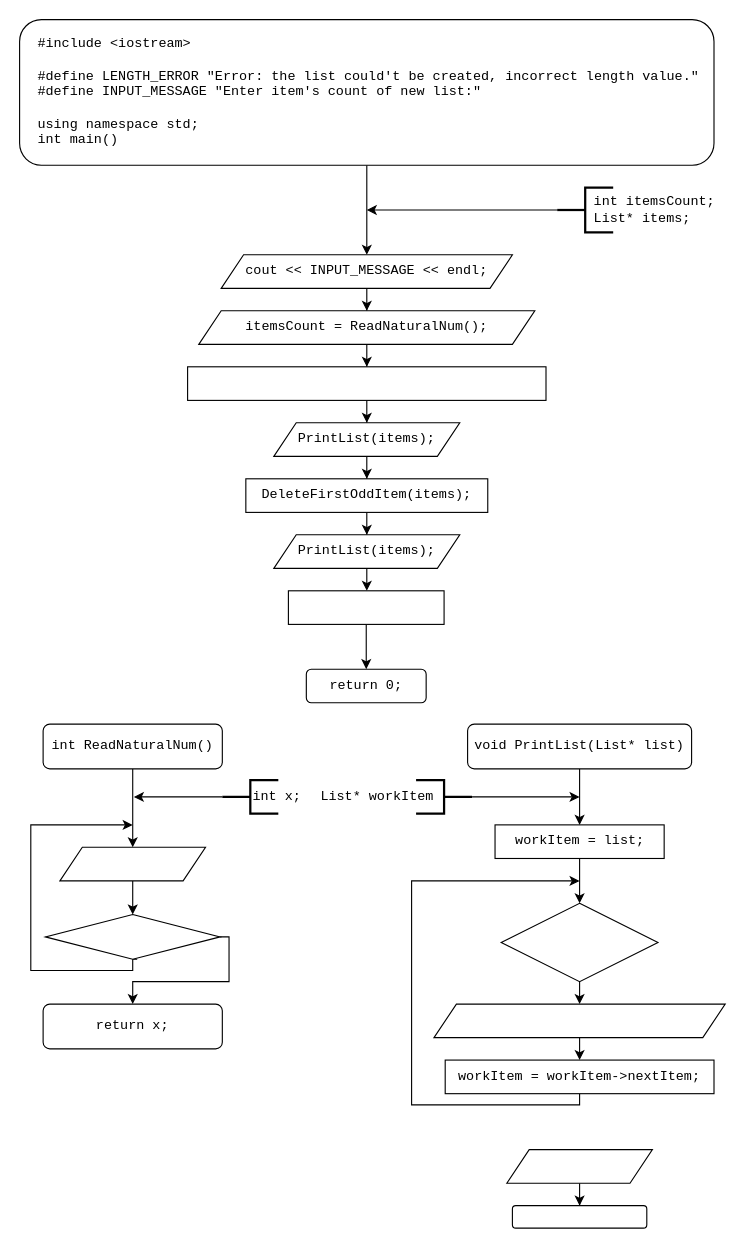
Image size: 746x1248. Some labels were removed from this diagram. Each missing label, with the centre of its shape:
"cin >> x;" belongs at point 132,863.
"cout << endl;" belongs at point 579,1166.
"cout << workItem->item << ' ';" belongs at point 579,1020.
"delete[] items;" belongs at point 365,607.
"items = NewRandomList(itemsCount);" belongs at point 366,383.
"while (workItem != NULL)" belongs at point 579,942.
"while (x <= 0)" belongs at point 132,936.
